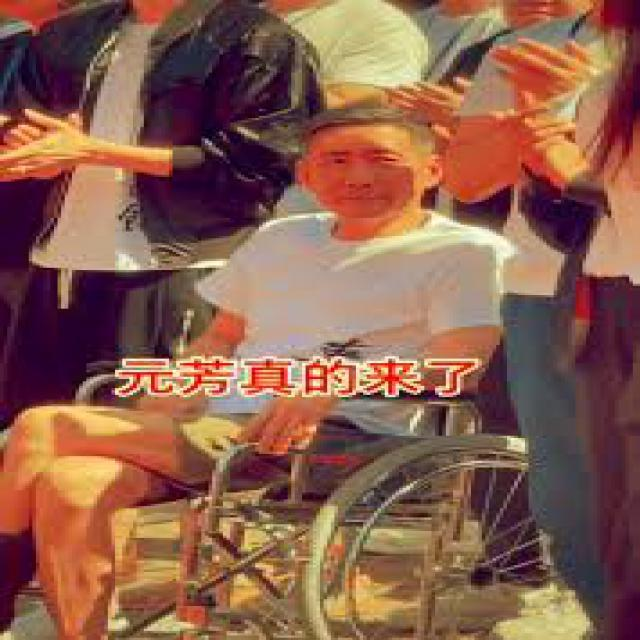wheelchairs: (62, 234, 589, 636)
